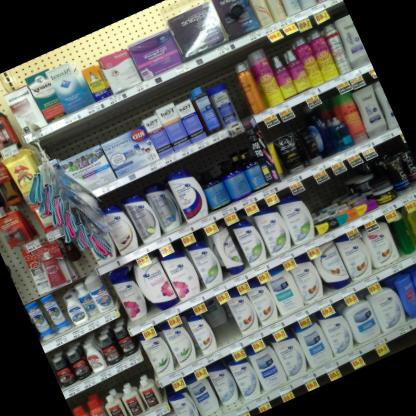empty_space: (212, 54, 252, 121), (200, 294, 242, 347)
